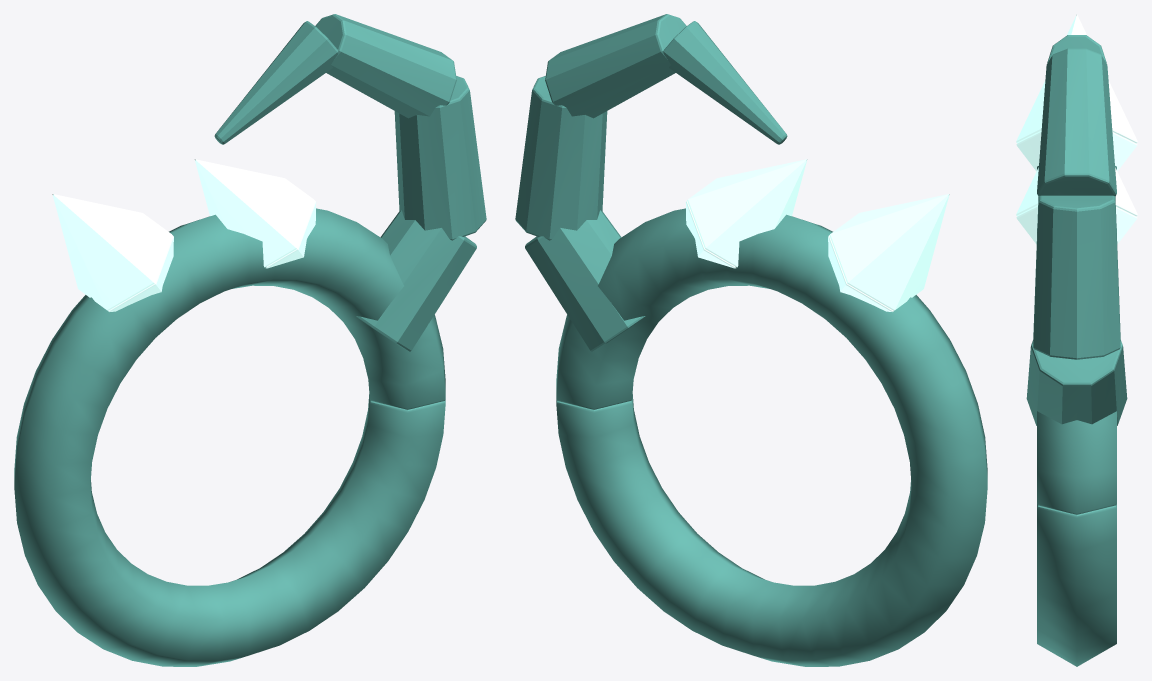
The model's file is item_024.glb.
3 renders of one model, left to right at view 1: azimuth 30°, elevation 25°; view 2: azimuth 150°, elevation 25°; view 3: azimuth 270°, elevation 25°, orthographic. The views are drawn at different scales.
Visible parts, largest first — view 1: Item_024_scorpion_ring; view 2: Item_024_scorpion_ring; view 3: Item_024_scorpion_ring.
Boxes of the visible parts, bbox=[...] form: Item_024_scorpion_ring: bbox=[14, 14, 486, 666]; Item_024_scorpion_ring: bbox=[515, 14, 987, 666]; Item_024_scorpion_ring: bbox=[1016, 14, 1137, 666].
Bounding box in the file's own units: 0.3936 × 0.4979 × 0.0845.
